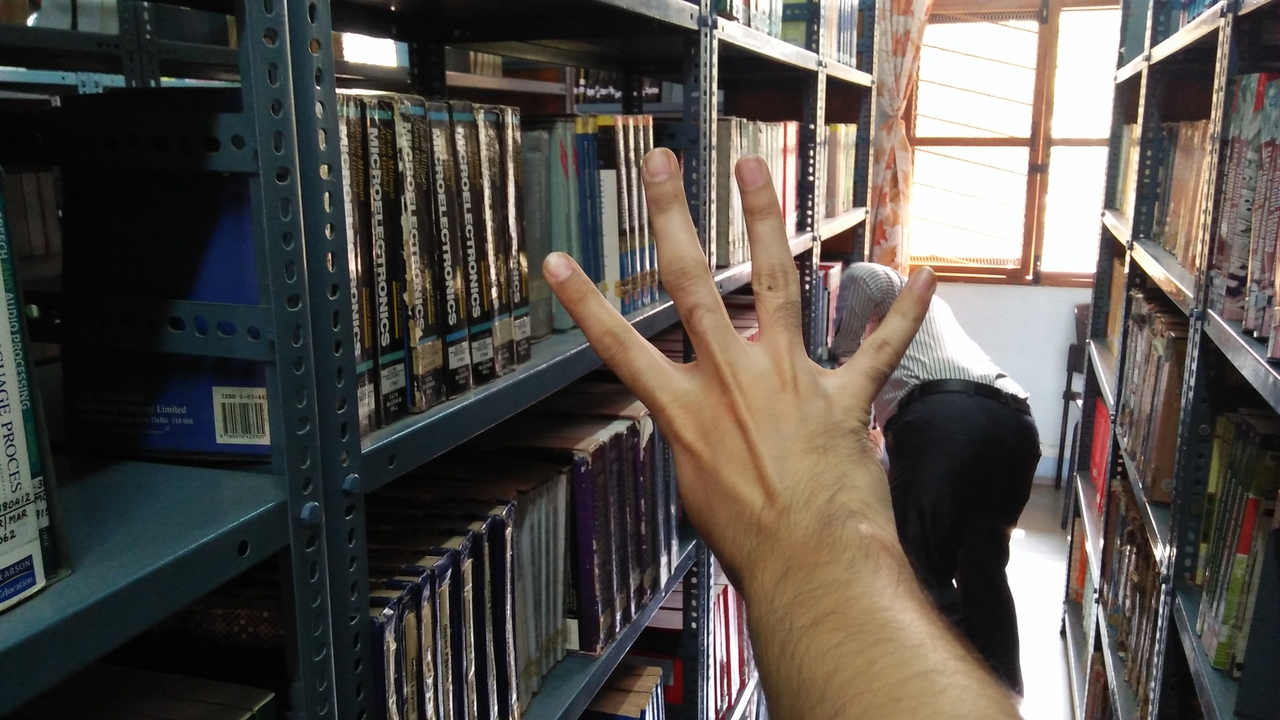fingertip: (634, 140, 690, 192), (534, 244, 590, 296), (726, 148, 782, 196), (896, 262, 948, 304)
